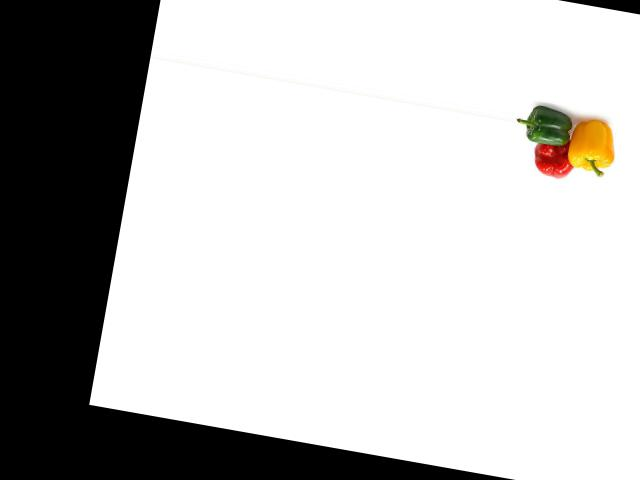bell_pepper: (517, 102, 584, 155)
